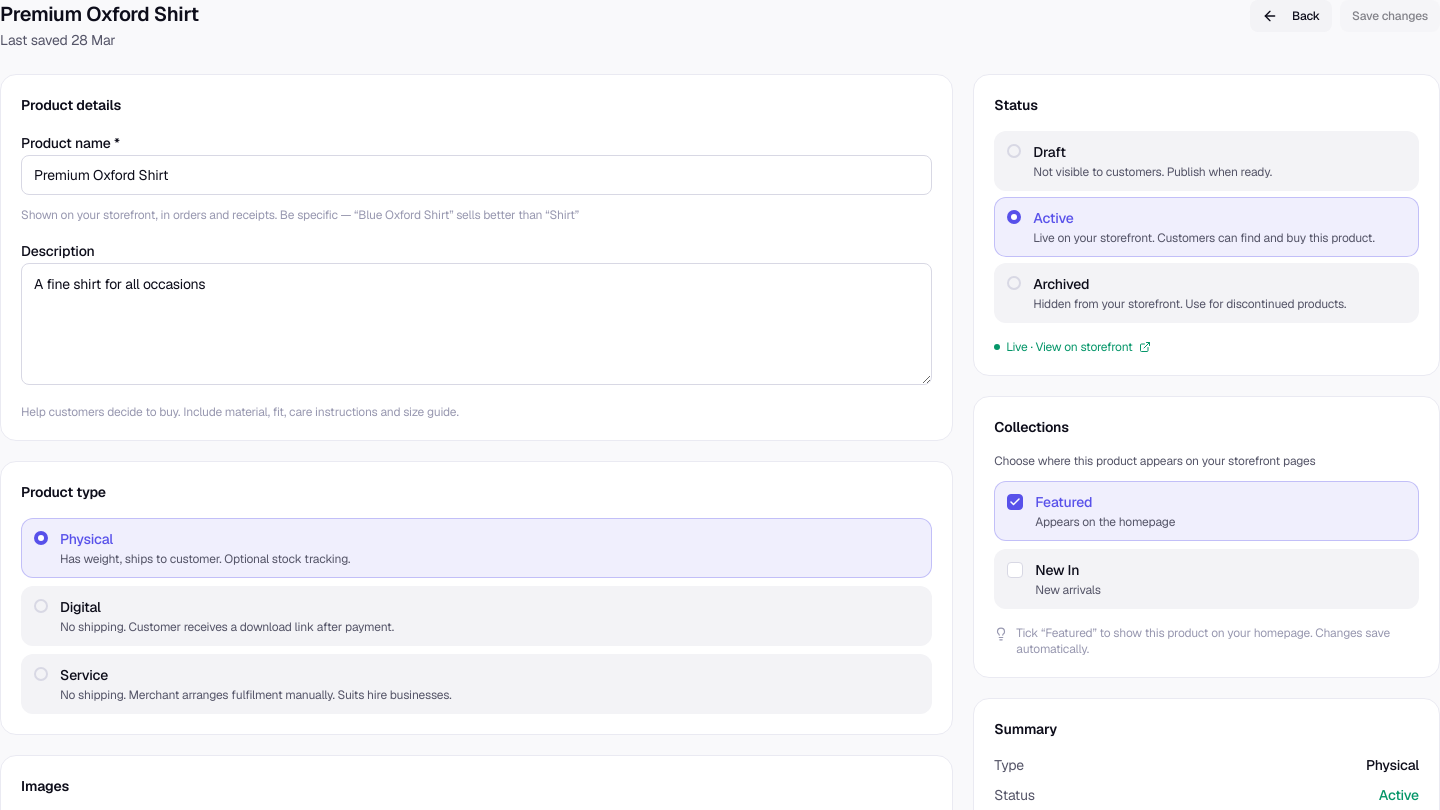
Test case: ProductForm — navigation intercept › shows warning modal when navigating away with unsaved changes
Expected: the heading "Premium Oxford Shirt" is shown, x1=0 y1=0 x2=199 y2=28
Type " changed" into the field labelled "Product name *".
click(477, 175); type(" changed")  # box x1=21 y1=155 x2=932 y2=195
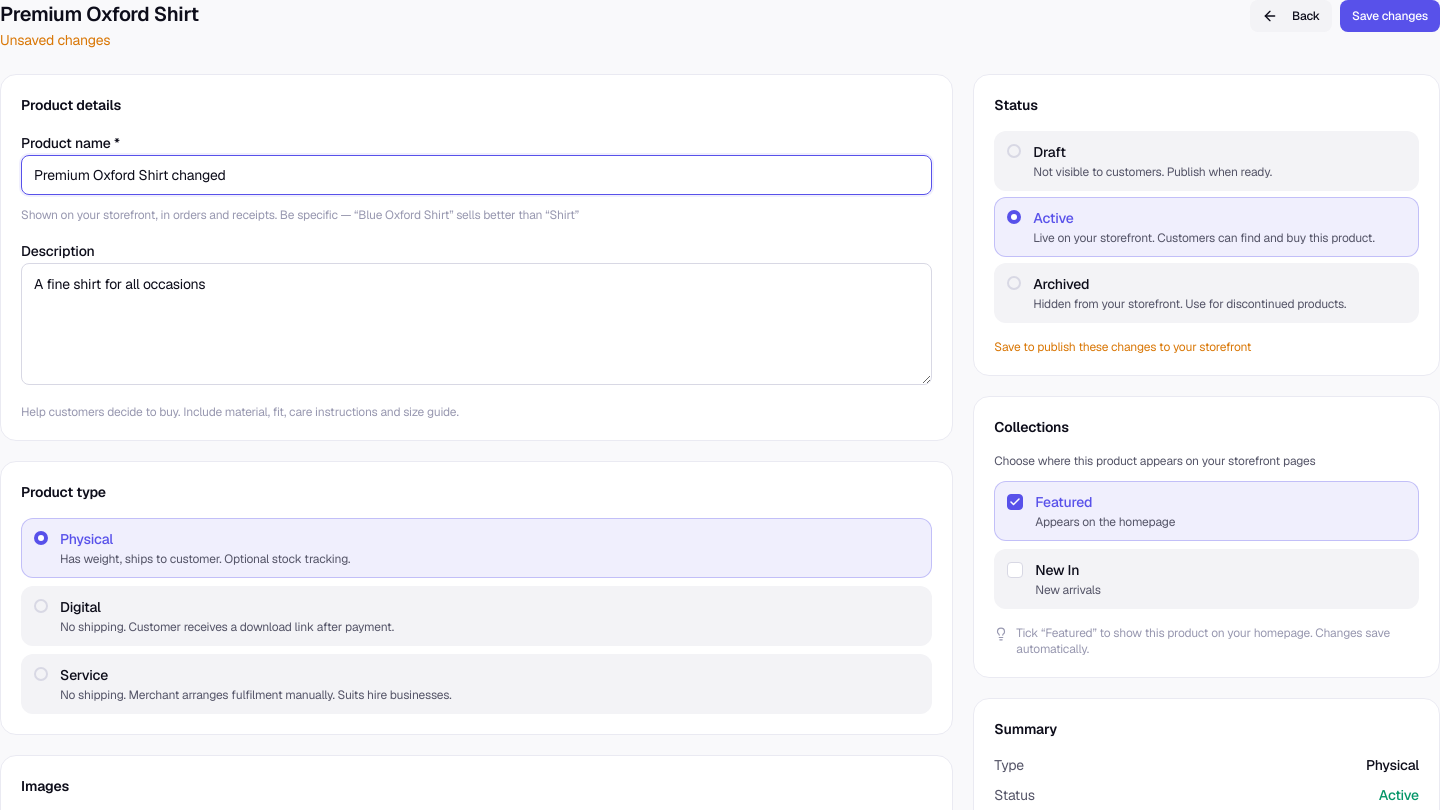
Expected: the text "Unsaved changes" is shown, x1=0 y1=31 x2=110 y2=49
Click the button "Back".
click(1291, 16)  # box x1=1250 y1=0 x2=1332 y2=32
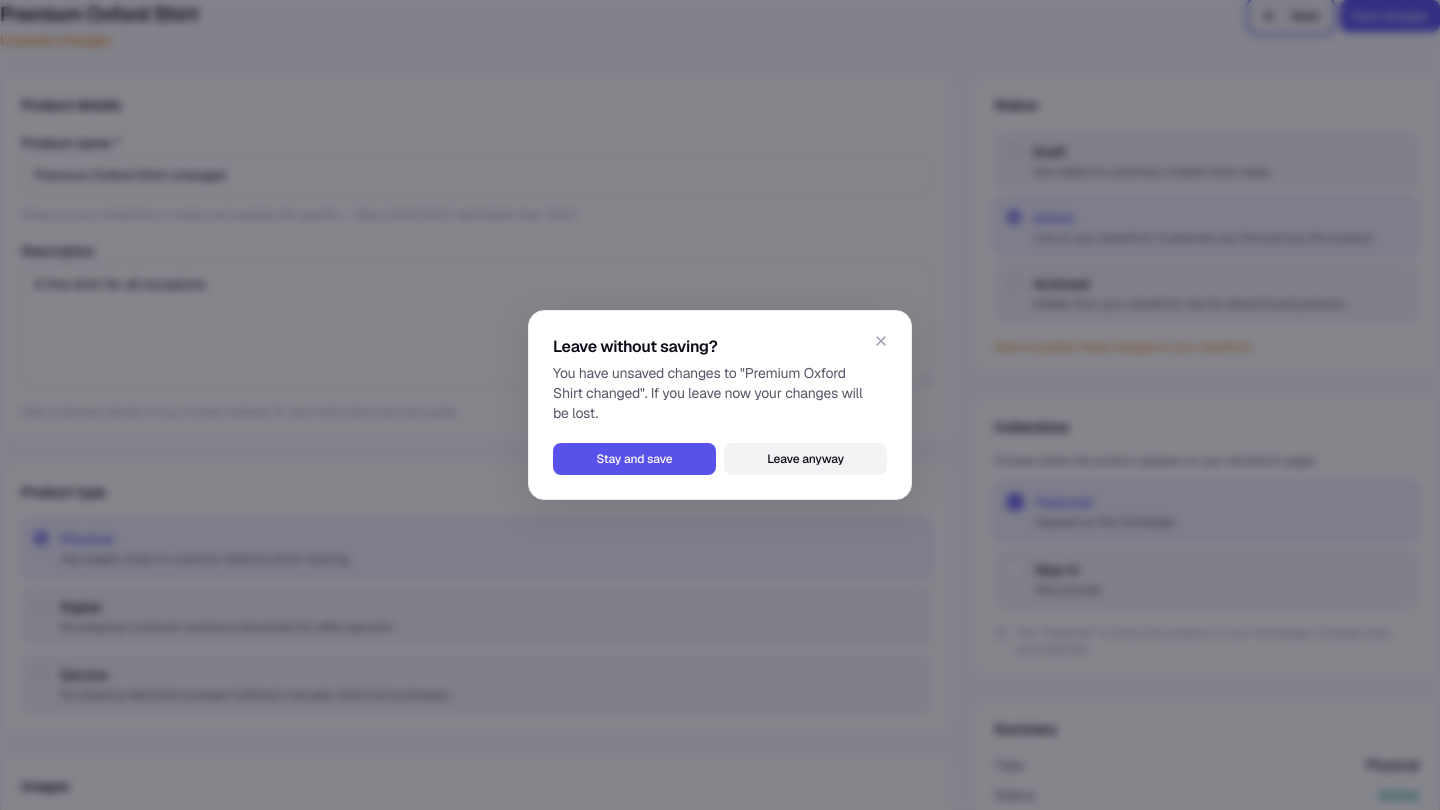
Expected: the heading "Leave without saving?" is shown, x1=553 y1=336 x2=717 y2=357
